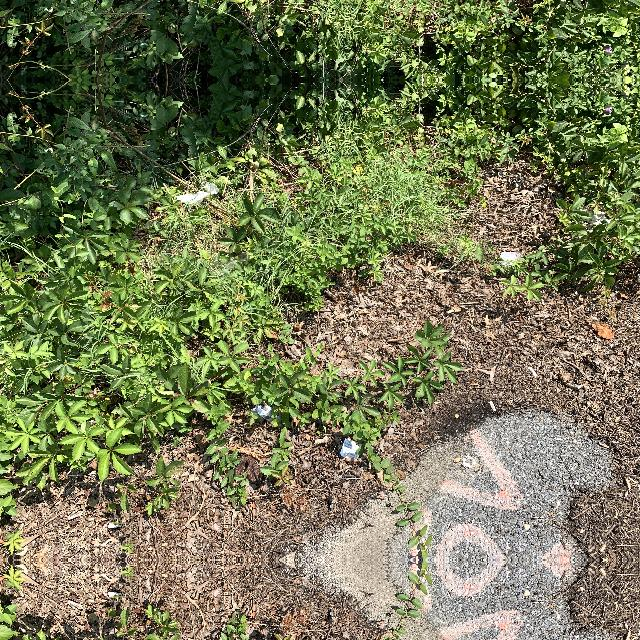Paper: (174, 179, 218, 207), (248, 402, 286, 423), (340, 434, 362, 462), (496, 247, 522, 270)
